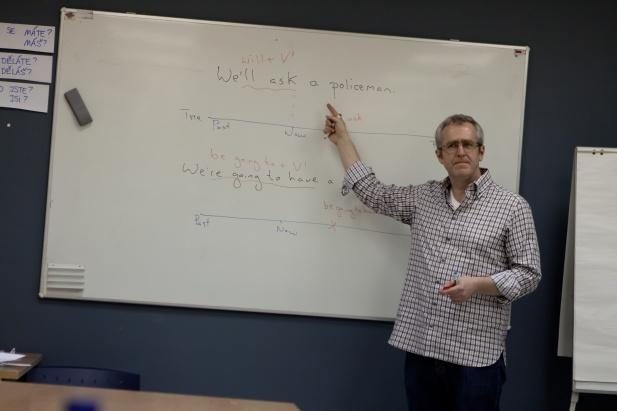Whiteboard: (35, 5, 529, 322)
